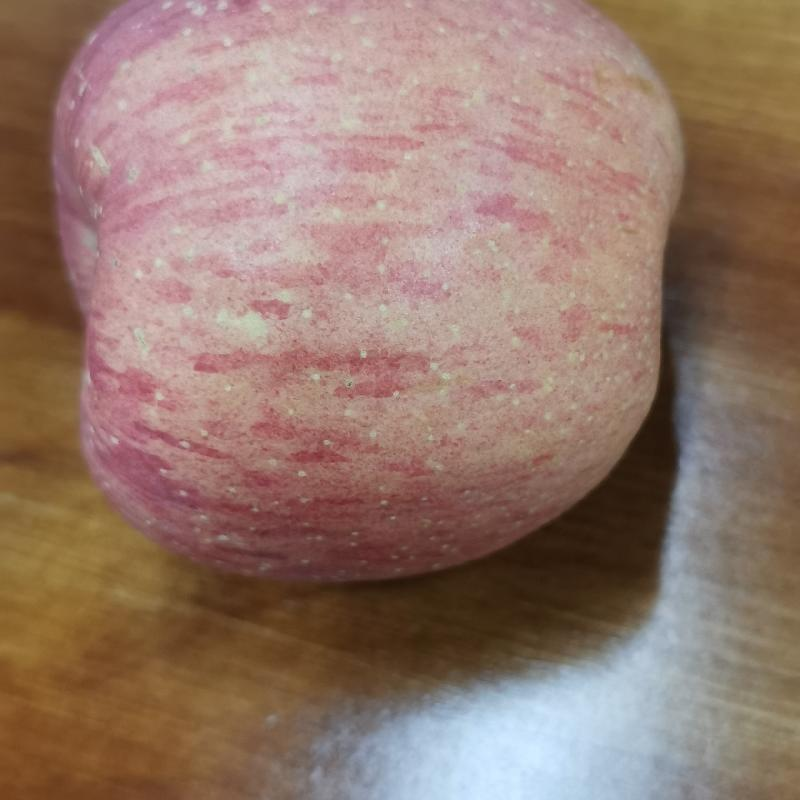apples: (45, 5, 691, 586)
